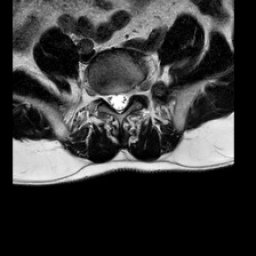CCS_normal: (113, 83, 121, 121)
LFS_normal: (128, 79, 136, 102)
LLS_normal: (121, 85, 129, 112)
RFS_stenosis: (98, 84, 105, 106)
RLS_normal: (105, 84, 113, 115)
